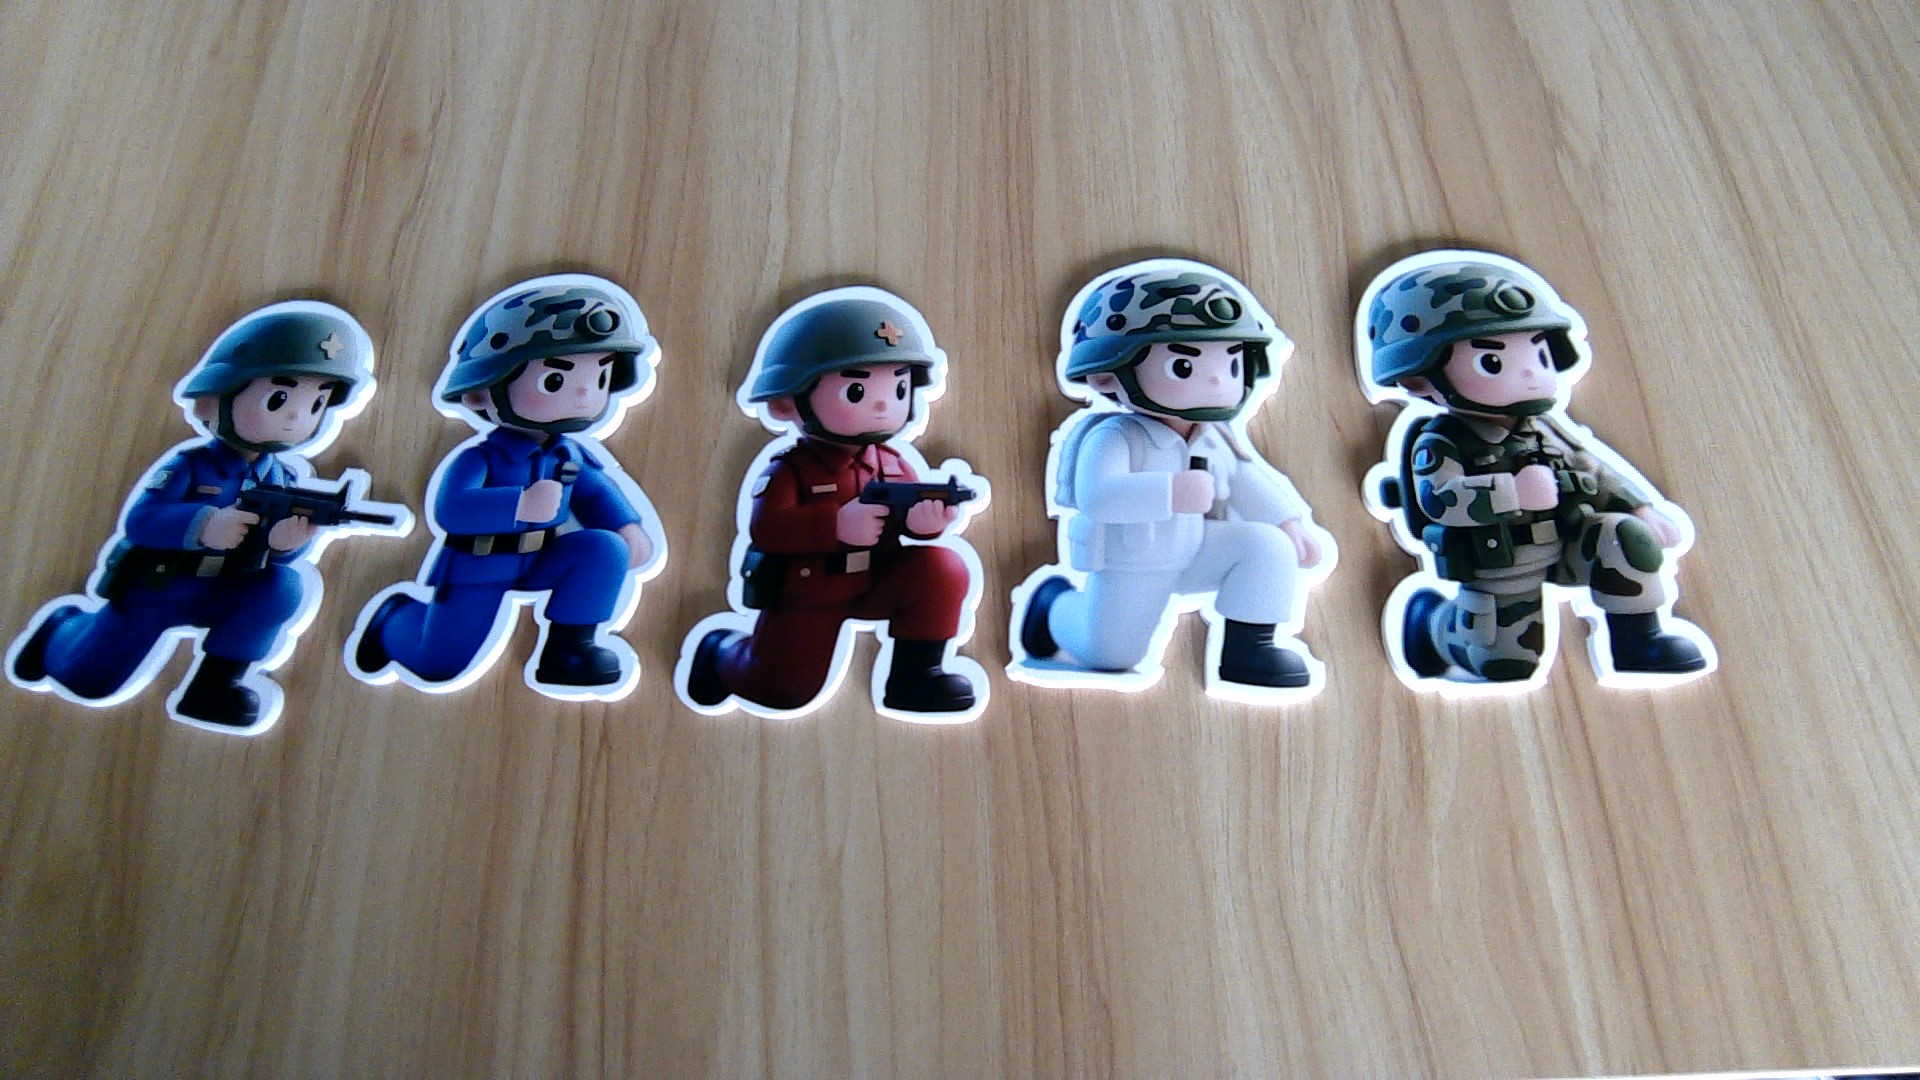人质: (1001, 413, 1349, 702)
友军: (1364, 411, 1733, 694)
敌人1: (676, 426, 998, 729)
敌人2: (3, 447, 344, 738), (356, 438, 659, 708)
